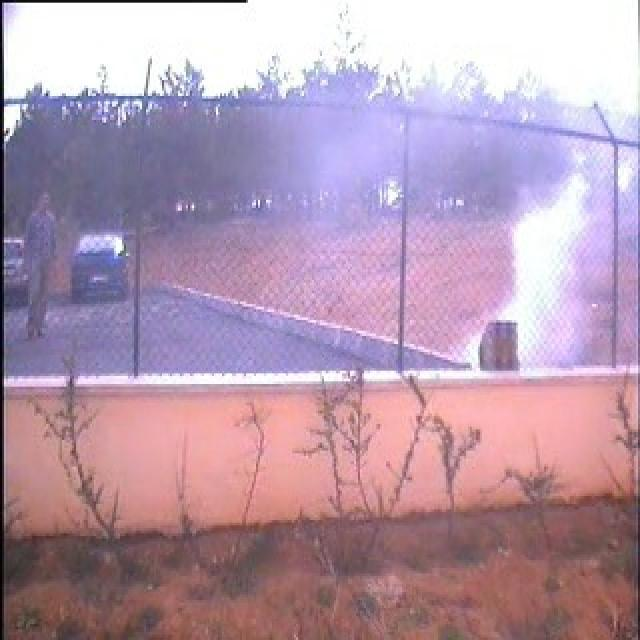Smoke: (457, 178, 591, 366)
